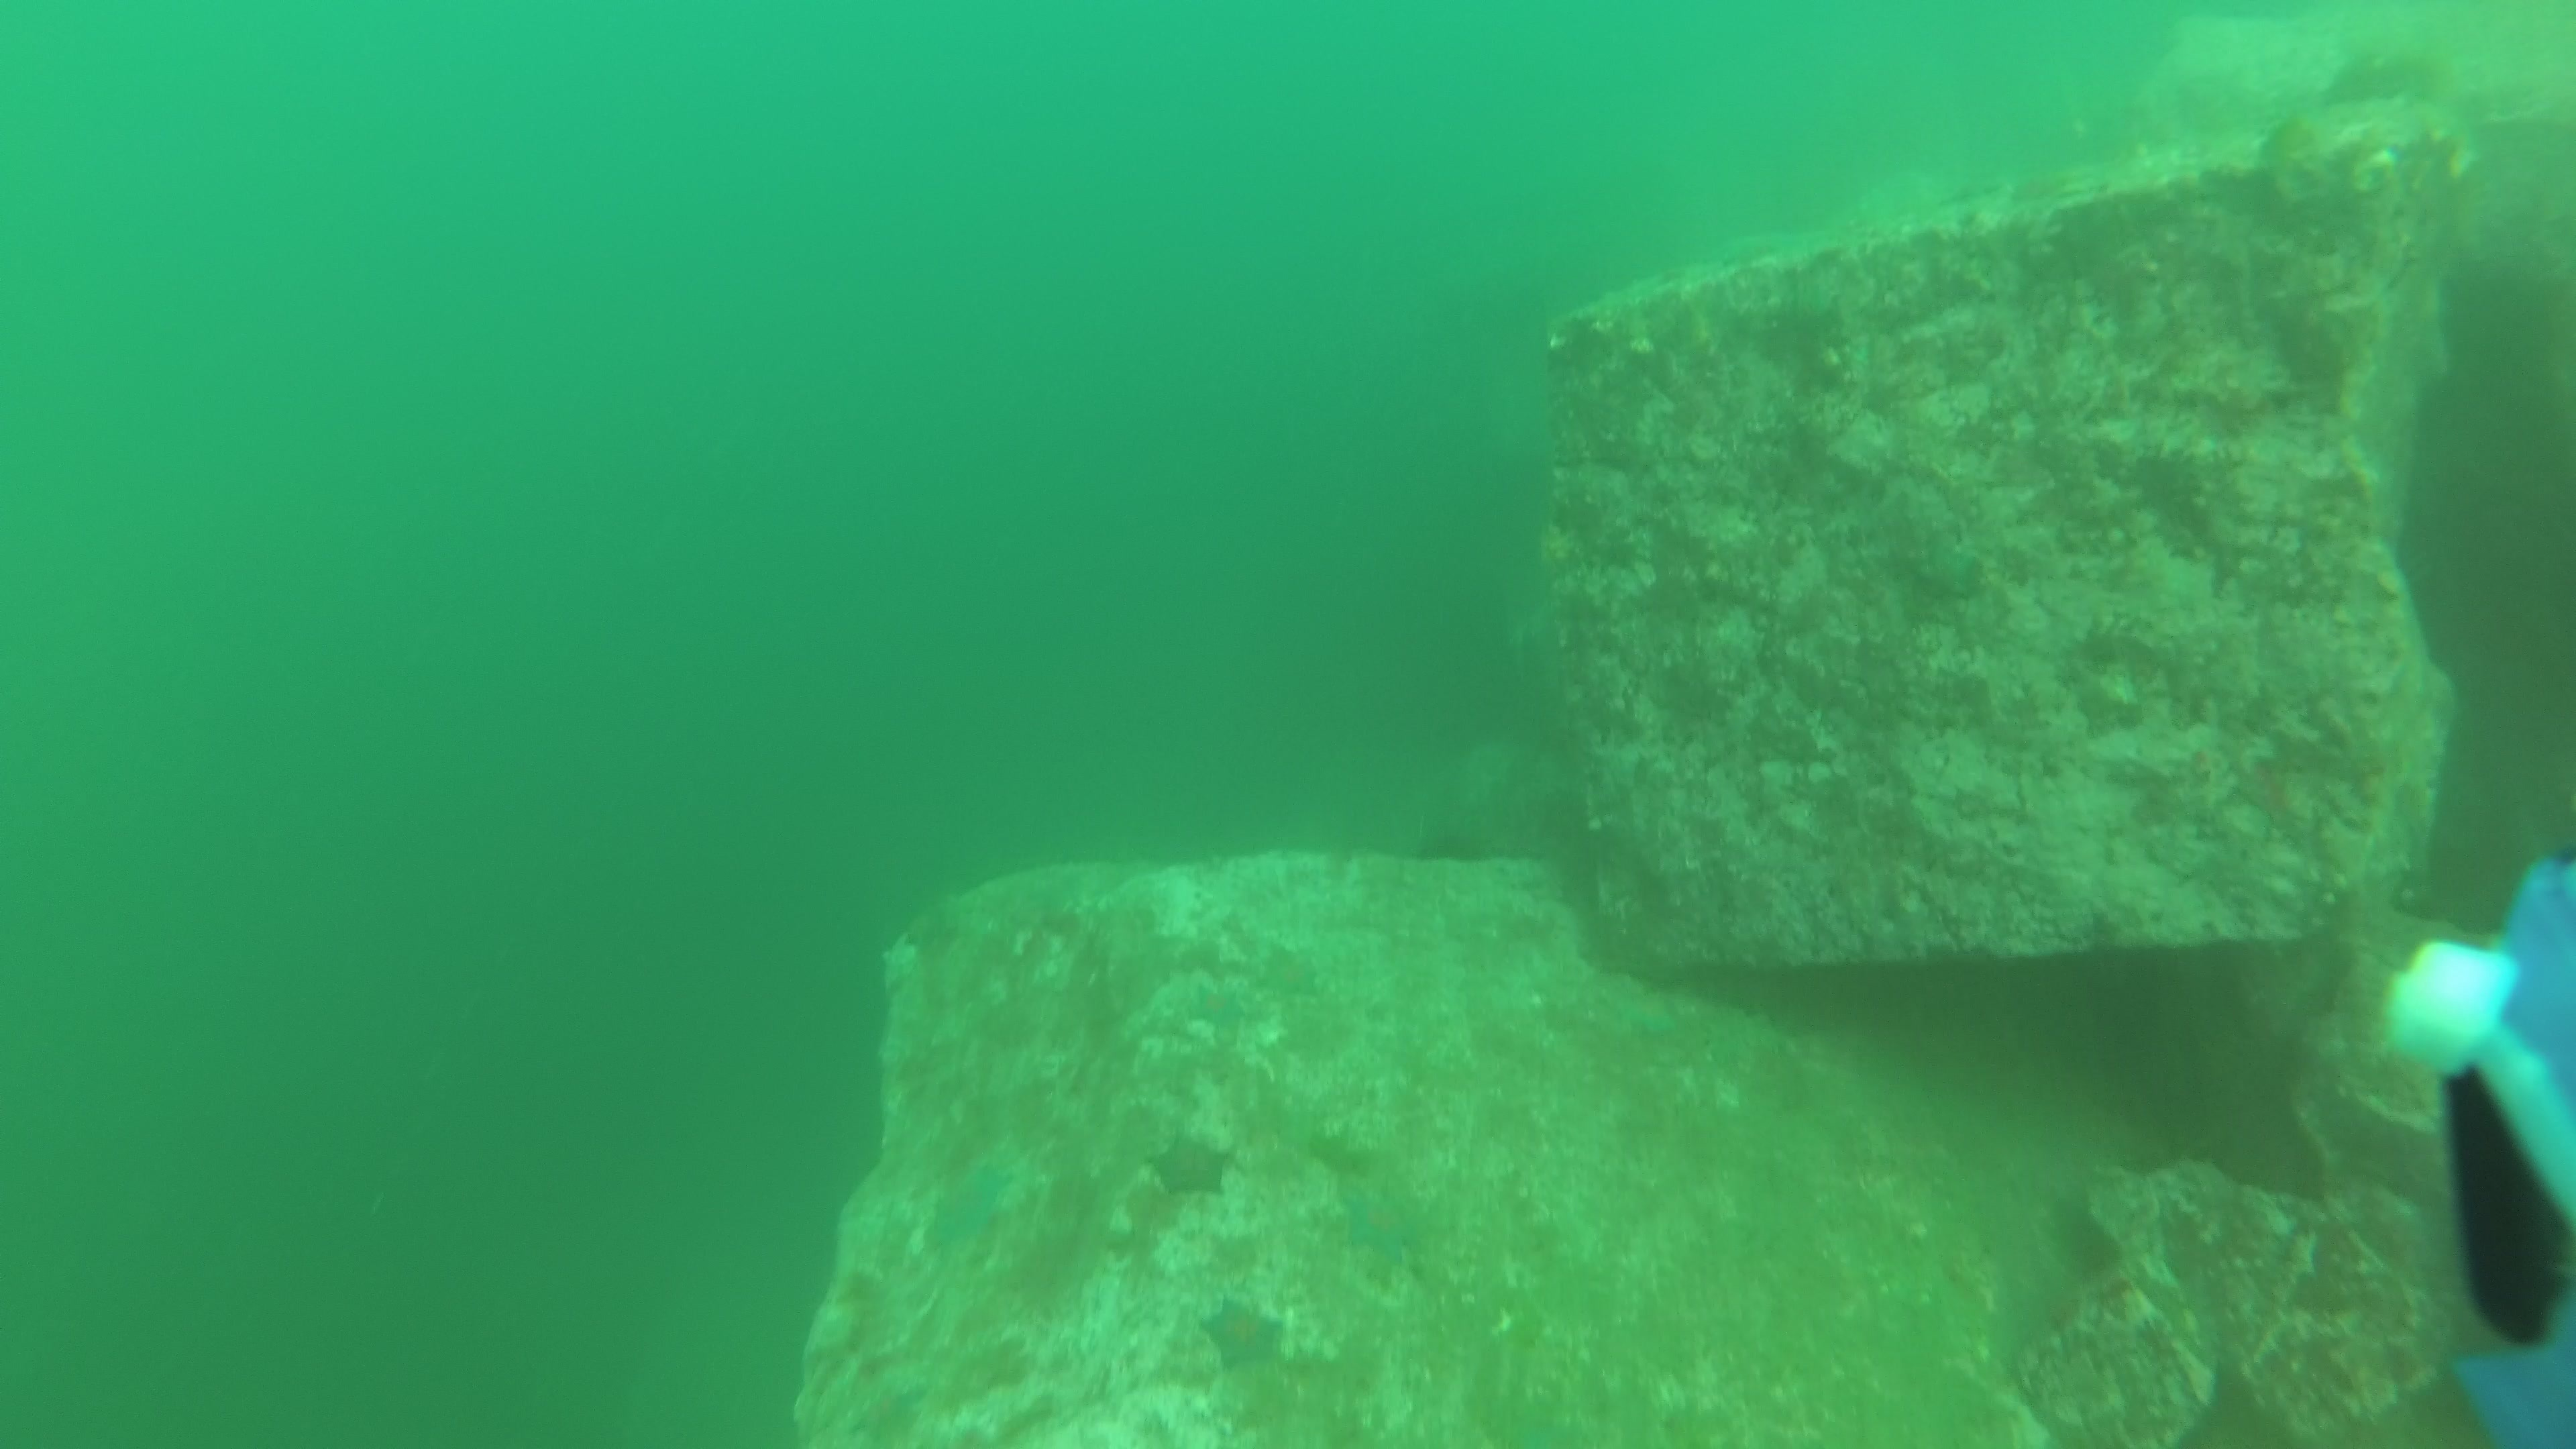starfish: (1191, 1293, 1292, 1373), (915, 1166, 1014, 1246), (1334, 1178, 1421, 1265), (1141, 1123, 1237, 1200), (2258, 103, 2335, 170)
